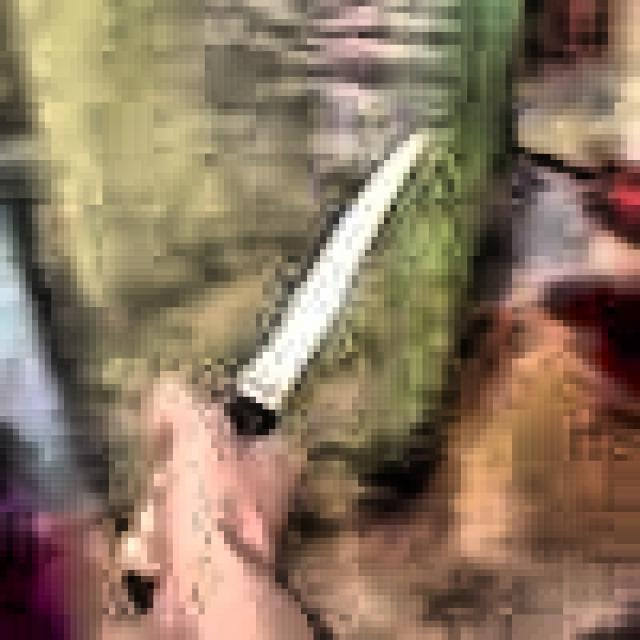knife: (124, 134, 434, 621)
